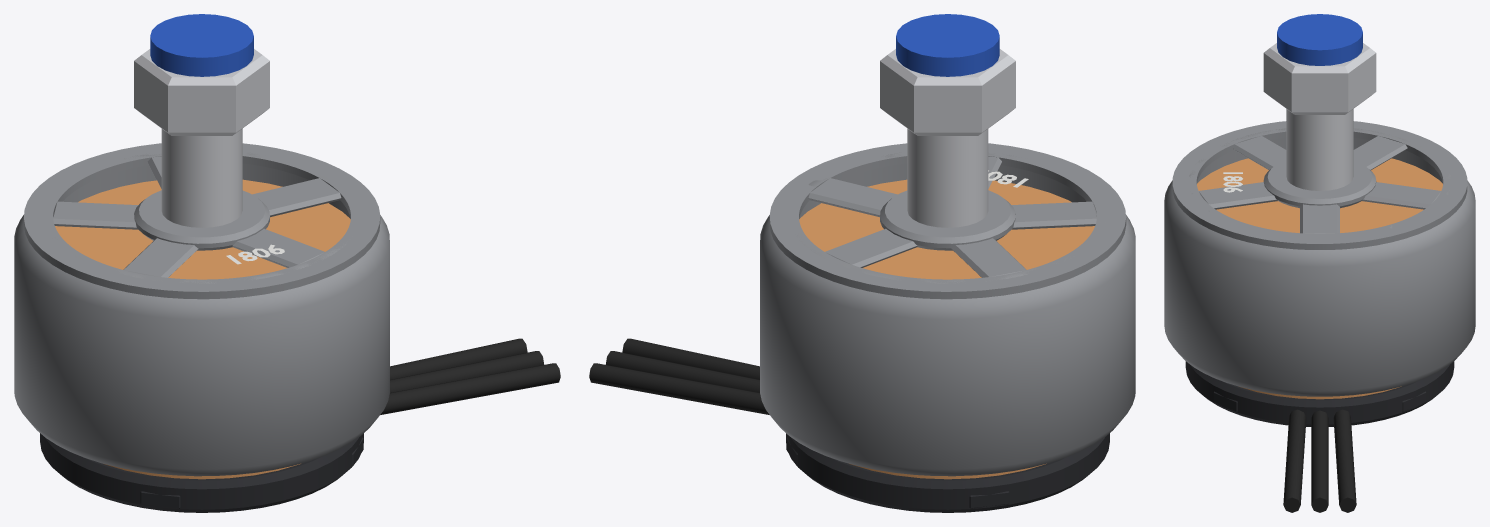
The model's file is motor_m1806.glb.
The picture shows the model from 3 angles, left to right: view 1: azimuth 30°, elevation 25°; view 2: azimuth 150°, elevation 25°; view 3: azimuth 270°, elevation 25°; orthographic projection. The views are drawn at different scales.
Parts seen in each view (by area): view 1: motor_campana, motor_techo, motor_base, techo_cobre, motor_tuerca, motor_cables, motor_eje, tuerca_nylon; view 2: motor_campana, motor_techo, motor_base, techo_cobre, motor_tuerca, motor_cables, motor_eje, tuerca_nylon; view 3: motor_campana, motor_techo, motor_base, techo_cobre, motor_tuerca, motor_cables, motor_eje, tuerca_nylon, motor_bobinado.
Boxes of the visible parts, x1=… form: motor_campana: x1=14, y1=152, x2=389, y2=476; motor_techo: x1=23, y1=143, x2=380, y2=299; motor_base: x1=40, y1=433, x2=363, y2=512; techo_cobre: x1=55, y1=179, x2=350, y2=279; motor_tuerca: x1=134, y1=49, x2=269, y2=135; motor_cables: x1=380, y1=338, x2=560, y2=414; motor_eje: x1=161, y1=128, x2=242, y2=227; tuerca_nylon: x1=150, y1=14, x2=253, y2=76; motor_campana: x1=760, y1=152, x2=1135, y2=476; motor_techo: x1=769, y1=143, x2=1126, y2=299; motor_base: x1=786, y1=433, x2=1109, y2=512; techo_cobre: x1=799, y1=179, x2=1094, y2=279; motor_tuerca: x1=880, y1=49, x2=1015, y2=135; motor_cables: x1=589, y1=338, x2=769, y2=414; motor_eje: x1=907, y1=128, x2=988, y2=227; tuerca_nylon: x1=896, y1=14, x2=999, y2=76; motor_campana: x1=1164, y1=128, x2=1475, y2=396; motor_techo: x1=1172, y1=121, x2=1467, y2=249; motor_base: x1=1185, y1=361, x2=1454, y2=426; techo_cobre: x1=1197, y1=158, x2=1442, y2=232; motor_tuerca: x1=1263, y1=43, x2=1376, y2=114; motor_cables: x1=1283, y1=409, x2=1356, y2=512; motor_eje: x1=1286, y1=109, x2=1353, y2=190; tuerca_nylon: x1=1277, y1=14, x2=1362, y2=65; motor_bobinado: x1=1238, y1=386, x2=1401, y2=399.
Size of the model in its own units: 0.0356 by 0.0283 by 0.0232.
